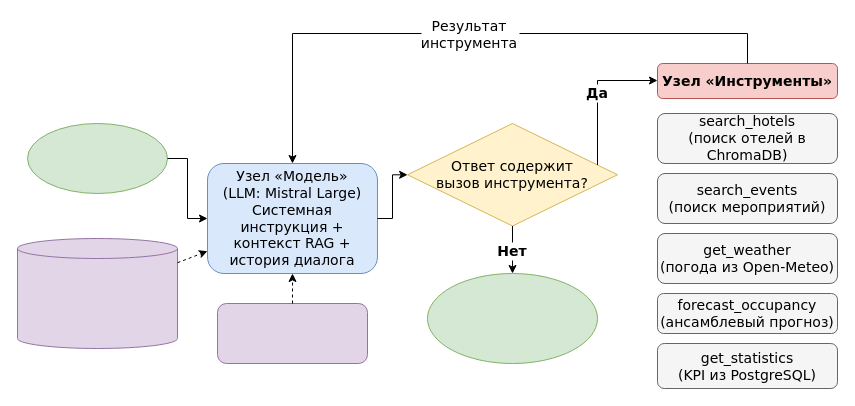
This 855x406 diagram has some shape labels left out. The centre of each missing label's shape, as x and y in pixels:
MemorySaver (хранение контекста по идентификатору сессии): the point at 97,293
Запрос пользователя: the point at 97,158
Ответ пользователю (потоковая передача, SSE): the point at 512,318
Поиск контекста (RAG) ChromaDB → top-5: the point at 292,333
